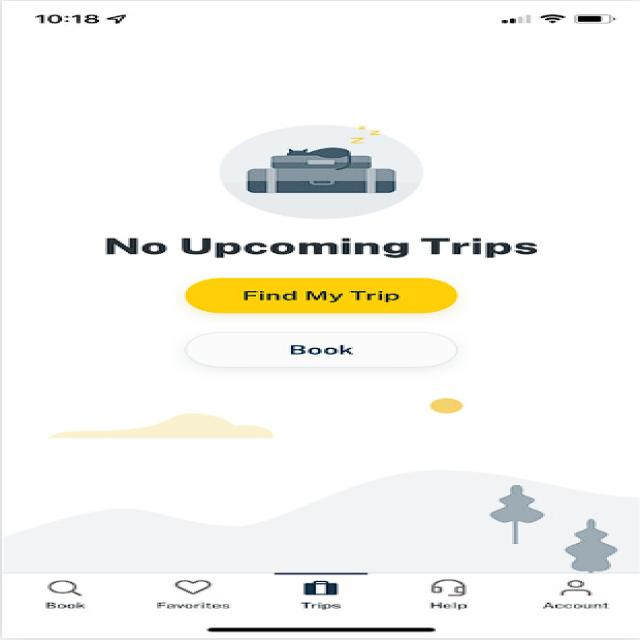button: (172, 320, 486, 374), (175, 269, 481, 320)
icon button: (528, 569, 625, 623), (402, 572, 500, 625), (145, 572, 243, 621), (275, 572, 375, 620), (27, 572, 106, 618)
text: (69, 227, 587, 262)
view: (201, 115, 441, 226)
